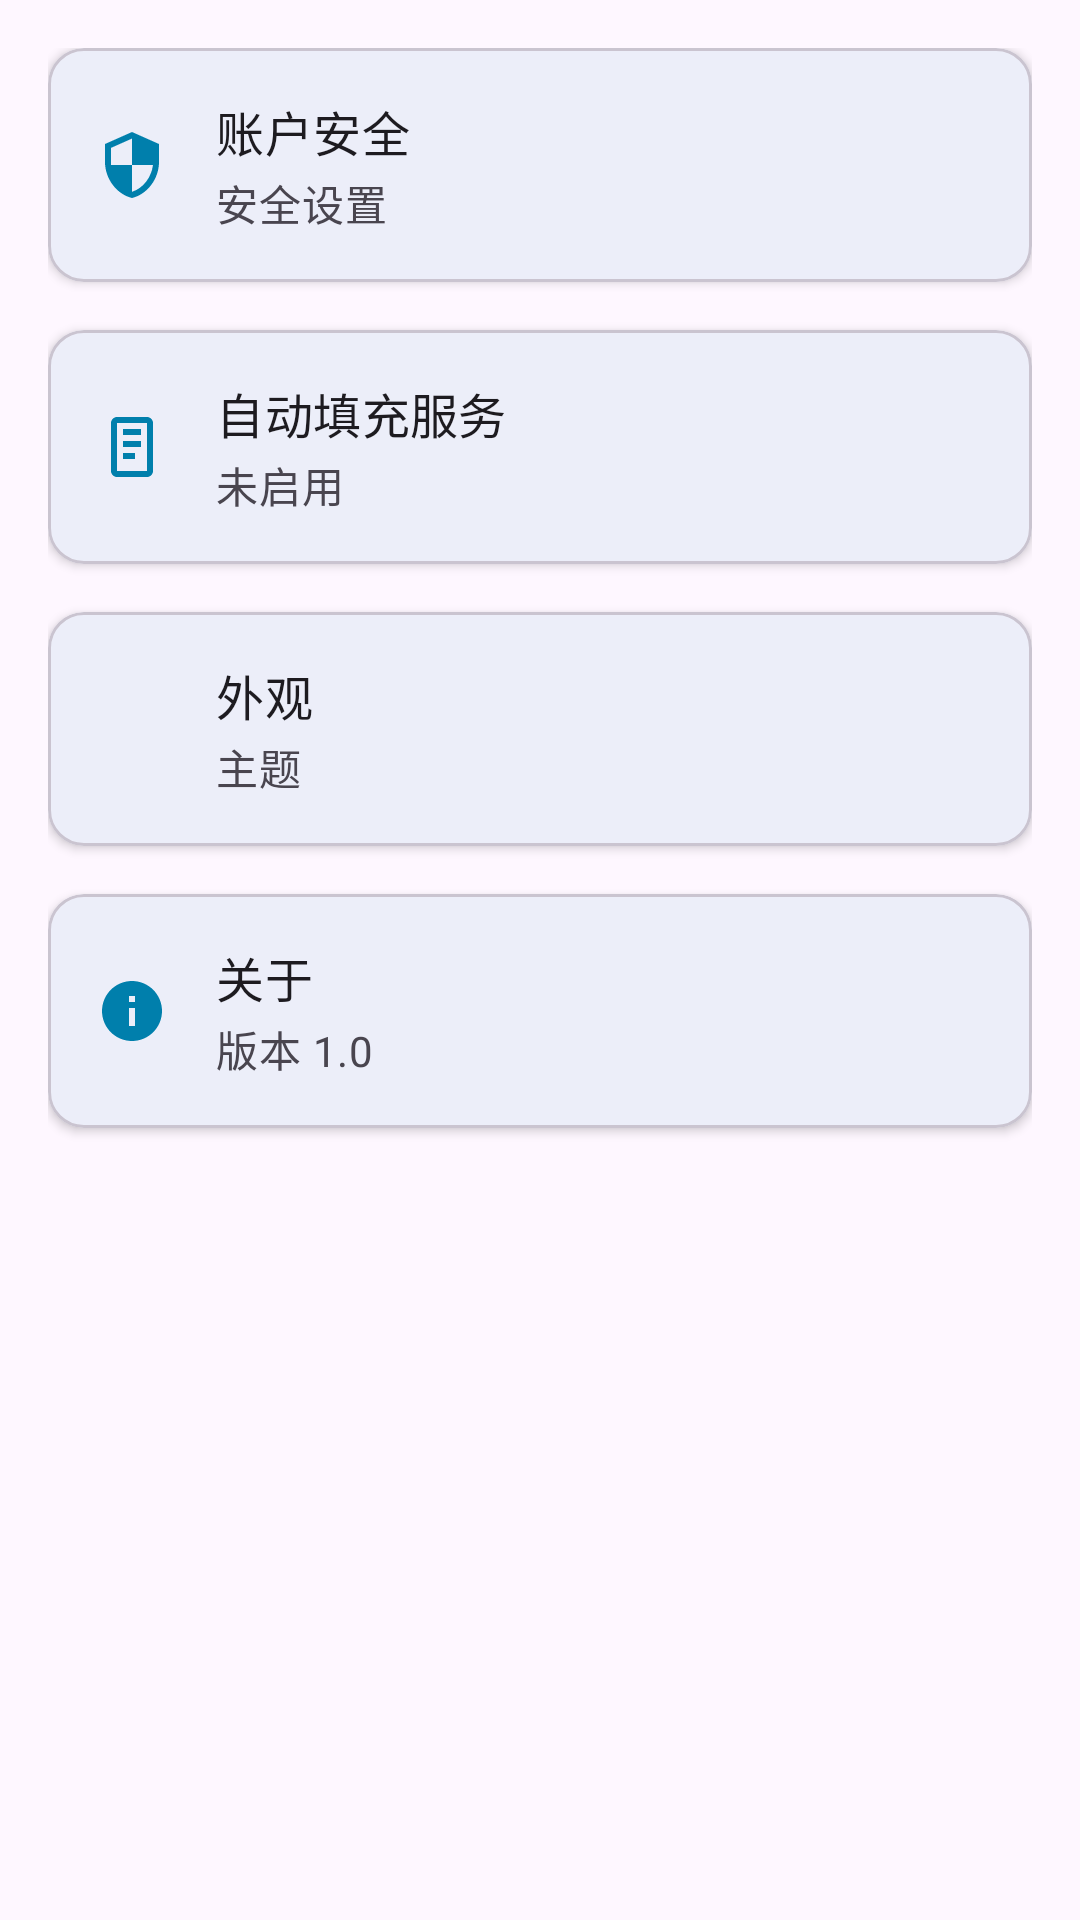

Screen size 1080 × 1920. Icon name, then its center in pixels as (x=x, y=y):
autofill: (x=132, y=447)
settings about: (x=132, y=1011)
settings security: (x=132, y=165)
